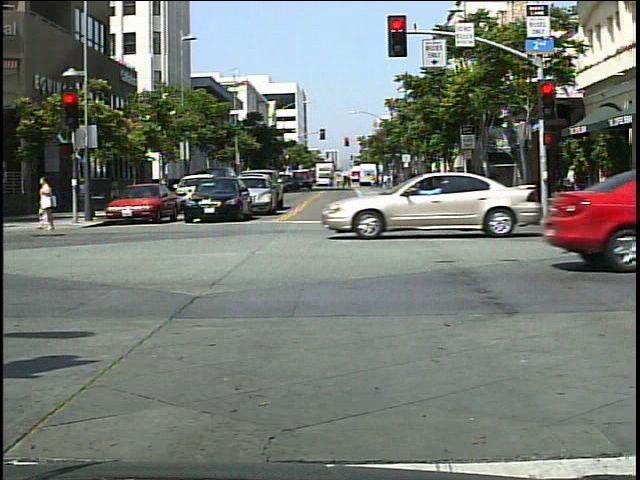person: (33, 171, 65, 235), (560, 161, 583, 212)
